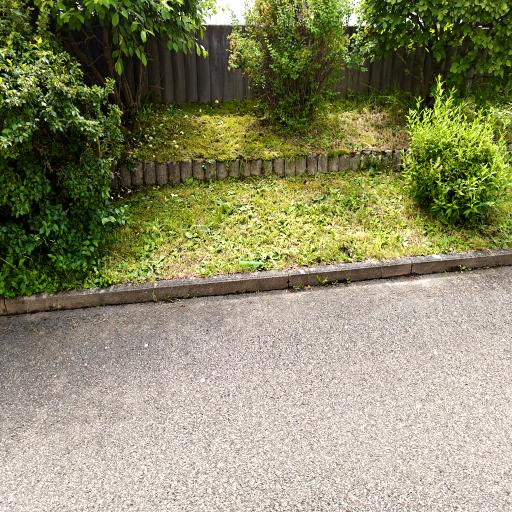Probe-Detection: (239, 261, 263, 266)
